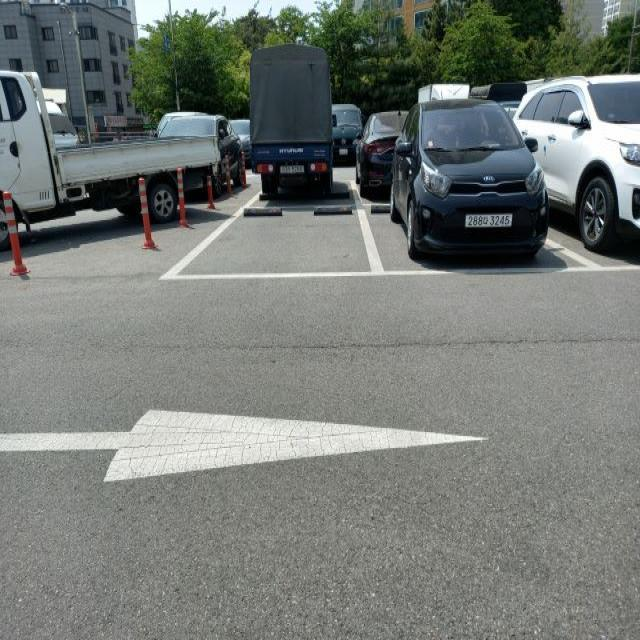empty: (160, 205, 387, 281)
occupied: (390, 98, 552, 268), (514, 76, 640, 255), (245, 46, 338, 197)
